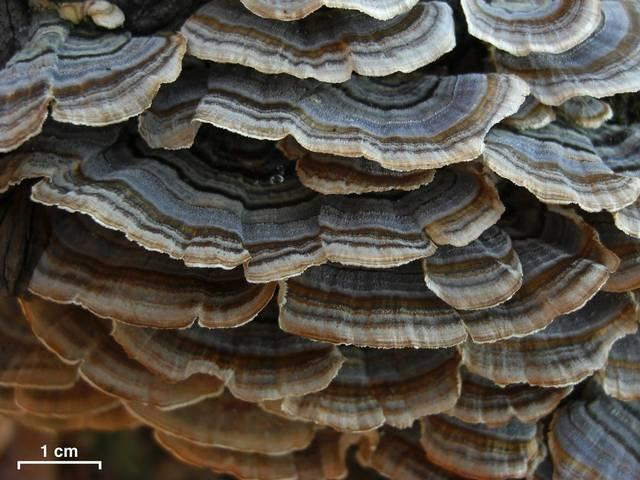poisonous_mushroom: (1, 0, 638, 479)
